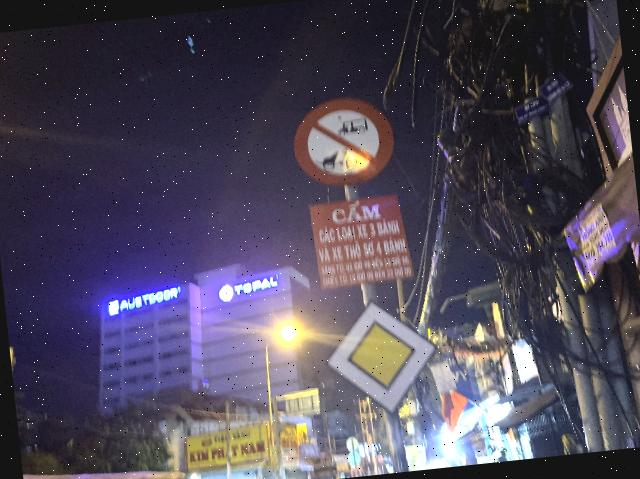bat-dau-duong-uu-tien: (320, 292, 444, 422)
cam-xe-3-banh-xe-tho-so-4-banh: (288, 92, 398, 192)
